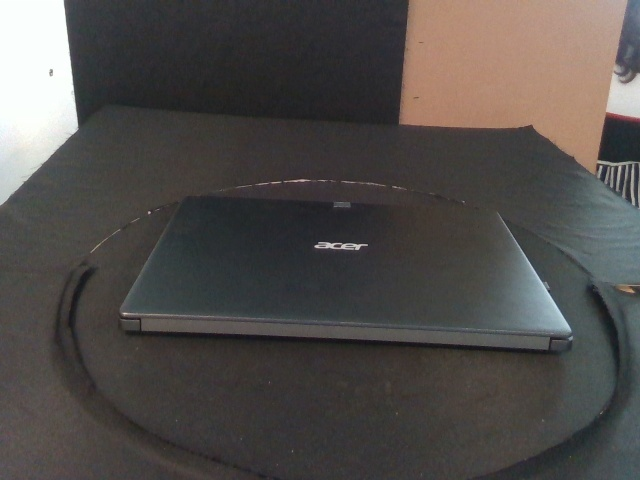laptop: (119, 194, 574, 355)
